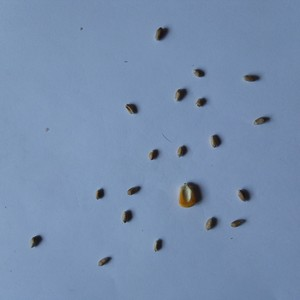maiz: (176, 180, 200, 209)
trigo: (229, 217, 250, 231), (236, 187, 251, 203), (151, 237, 164, 253), (240, 73, 260, 83), (120, 209, 134, 223), (194, 96, 209, 109), (204, 215, 216, 231), (125, 185, 142, 196), (209, 133, 221, 148), (97, 255, 112, 267), (124, 102, 137, 115), (176, 144, 188, 158), (154, 26, 165, 41), (174, 87, 185, 102), (30, 232, 41, 247), (147, 147, 159, 160), (254, 115, 268, 126), (94, 187, 105, 200), (192, 68, 204, 79)
